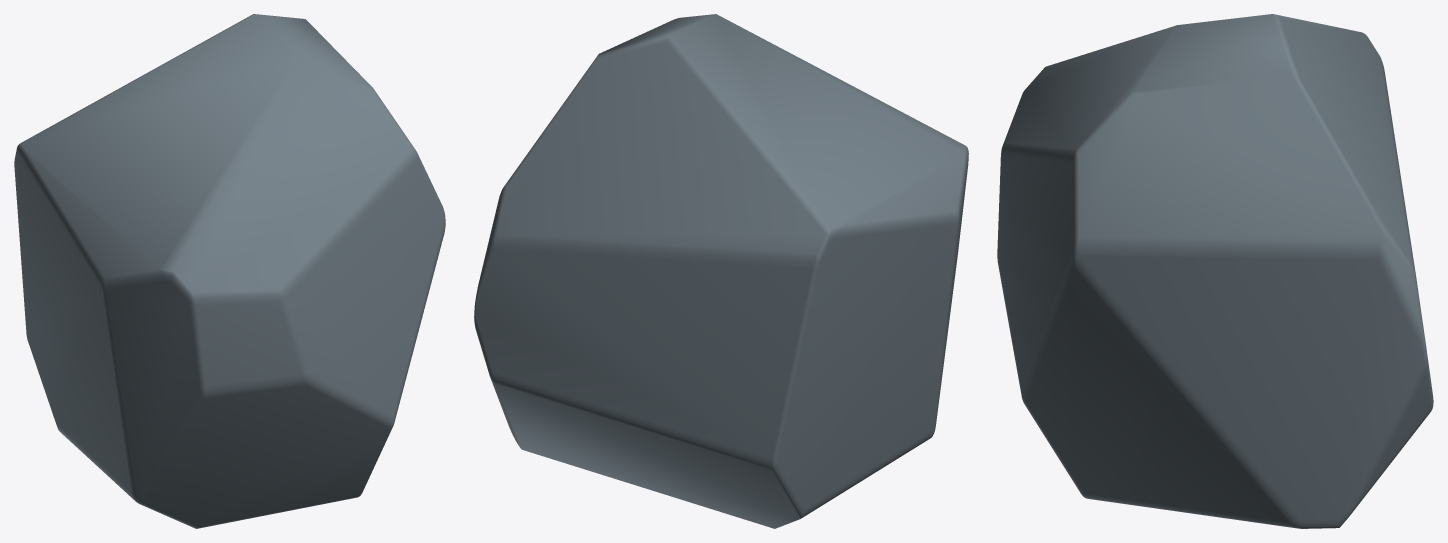
Rendered from Rock4-col.glb.
The picture shows the model from 3 angles, left to right: view 1: azimuth 30°, elevation 25°; view 2: azimuth 150°, elevation 25°; view 3: azimuth 270°, elevation 25°; orthographic projection. The views are drawn at different scales.
Parts seen in each view (by area): view 1: Rock4-col; view 2: Rock4-col; view 3: Rock4-col.
Part boxes in pixels (left/top/right/bottom): Rock4-col: left=14, top=14, right=445, bottom=528; Rock4-col: left=474, top=14, right=968, bottom=528; Rock4-col: left=997, top=14, right=1433, bottom=528.
Size of the model in its own units: 1.08 by 1.34 by 1.09.
